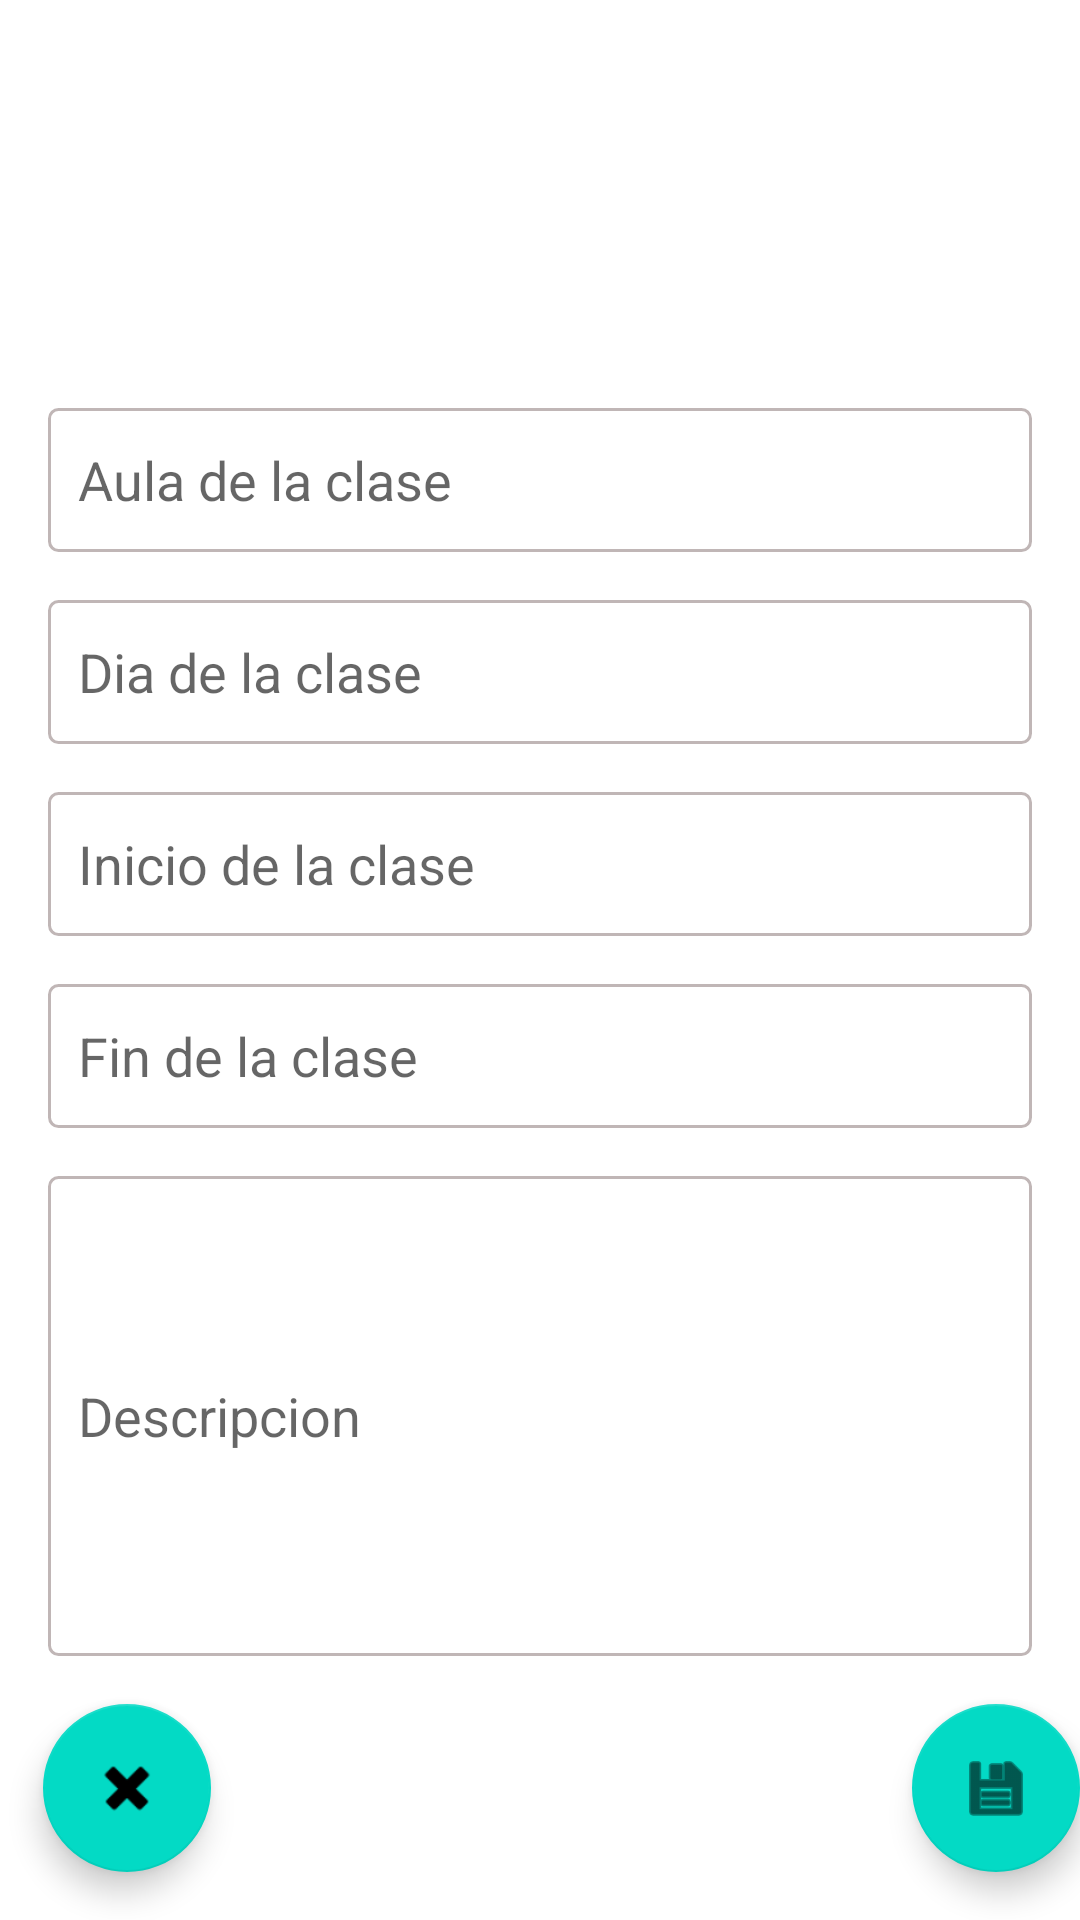

Icons on this 1080w x 1920h Android screen, each with the point to tap as point (x, y):
delete: point (127, 1788)
save: point (996, 1788)
